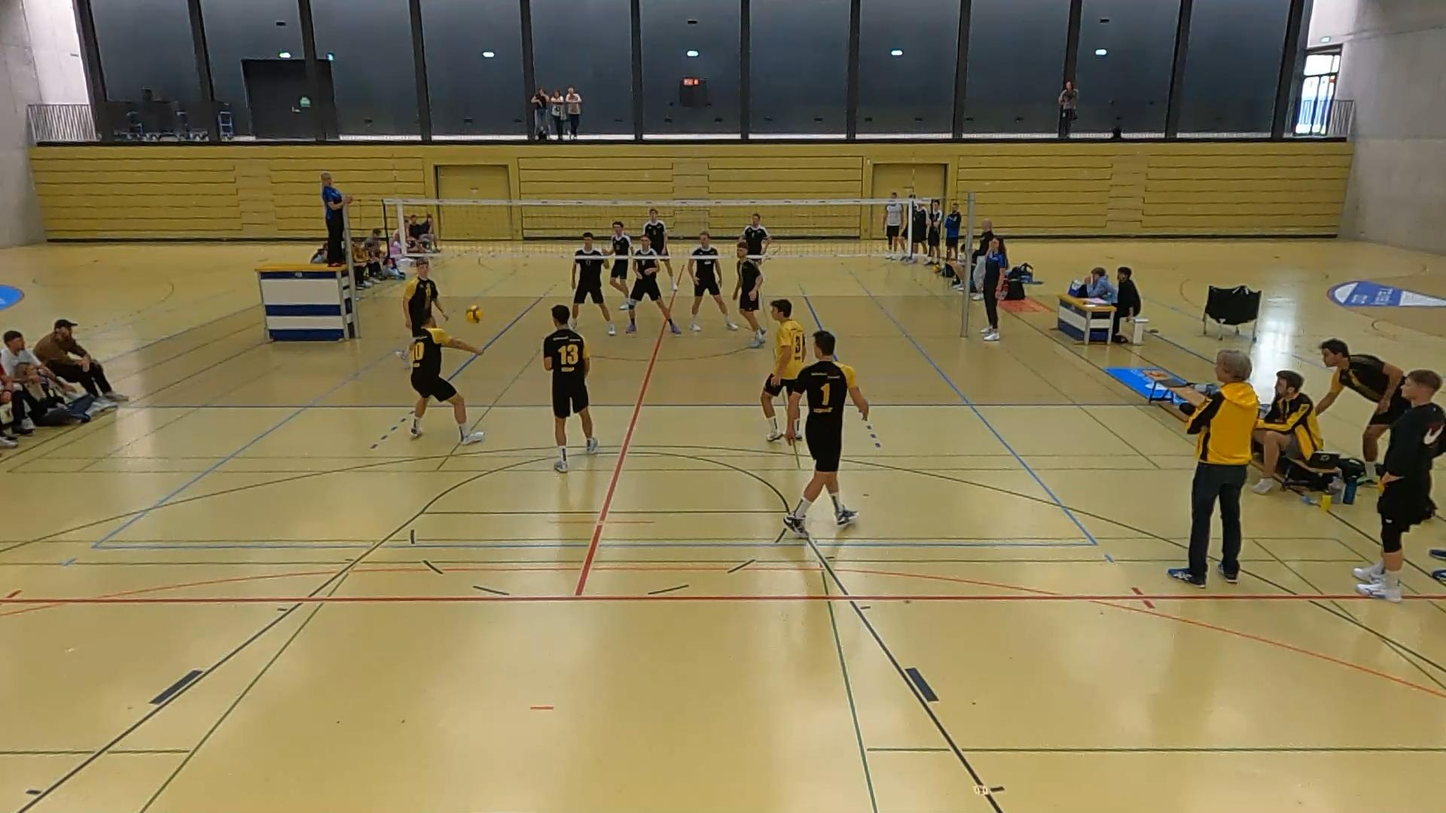Player: (784, 330, 868, 536), (543, 305, 598, 472), (760, 300, 805, 442), (626, 236, 681, 333), (685, 231, 737, 331), (569, 233, 615, 335), (731, 241, 765, 348), (402, 257, 447, 336), (643, 209, 678, 291), (609, 221, 631, 309), (741, 212, 771, 260)
Receive: (400, 314, 492, 454)
ball: (464, 304, 486, 325)
